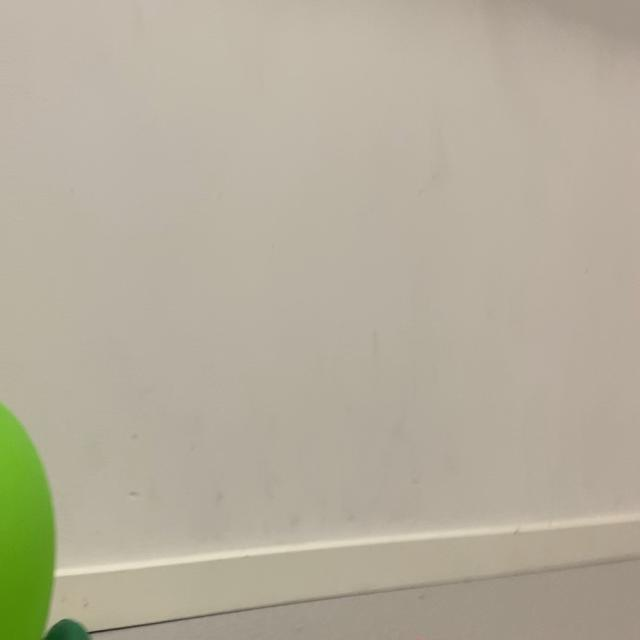7: (370, 593, 464, 640)
red ball: (36, 563, 109, 640)
